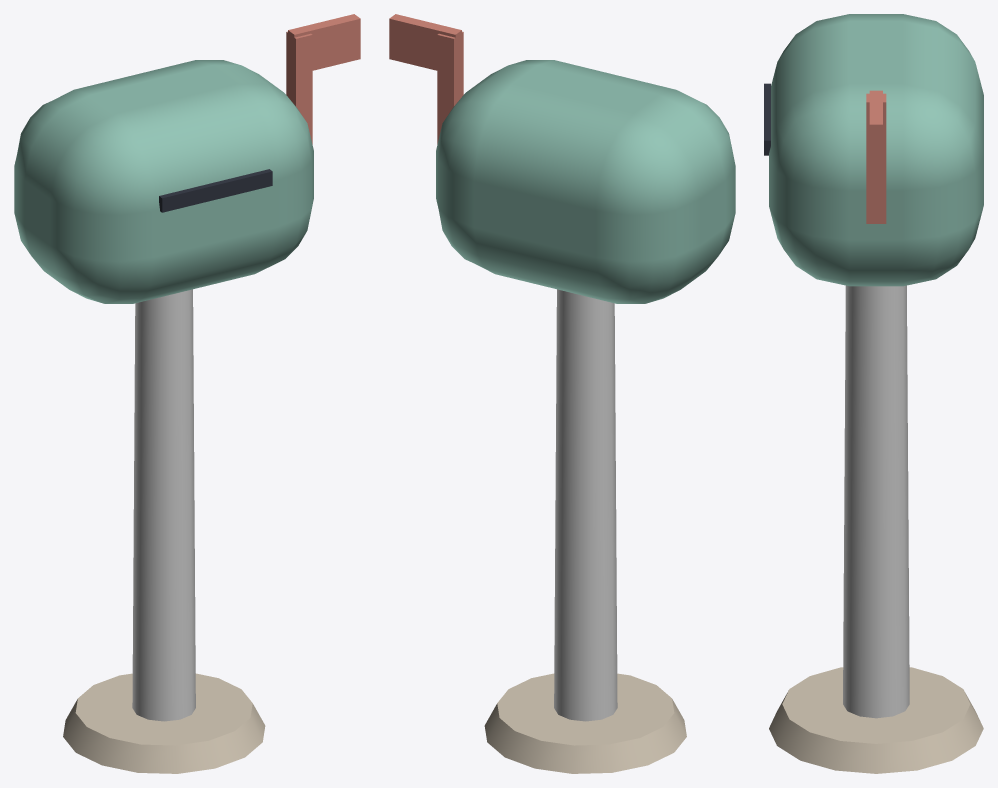
The model's file is furn_mailbox_ph.glb.
The picture shows the model from 3 angles, left to right: view 1: azimuth 30°, elevation 25°; view 2: azimuth 150°, elevation 25°; view 3: azimuth 270°, elevation 25°; orthographic projection. The views are drawn at different scales.
Visible parts, largest first — view 1: furn_mailbox; view 2: furn_mailbox; view 3: furn_mailbox.
Part boxes in pixels (box(x1,y1,x2,y2)): furn_mailbox: box(14, 14, 360, 773); furn_mailbox: box(389, 14, 735, 773); furn_mailbox: box(764, 14, 983, 773).
Size of the model in its own units: 0.58 by 1.15 by 0.327.
